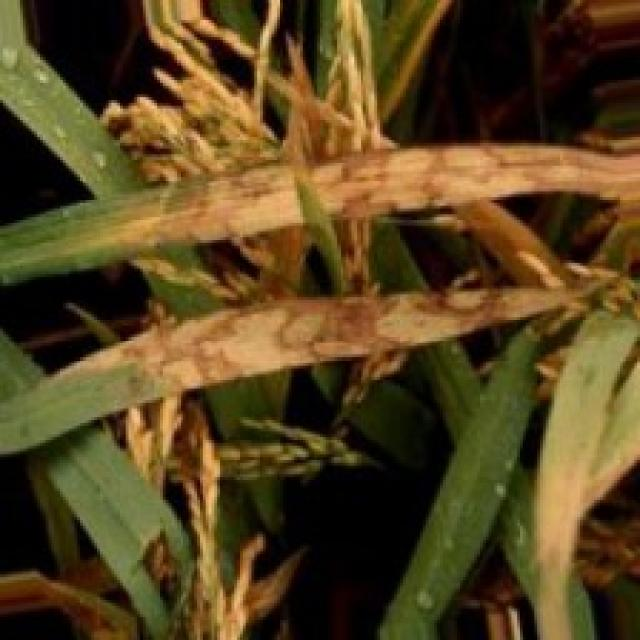Bacterial_Blight: (106, 271, 584, 383), (150, 138, 640, 225)
